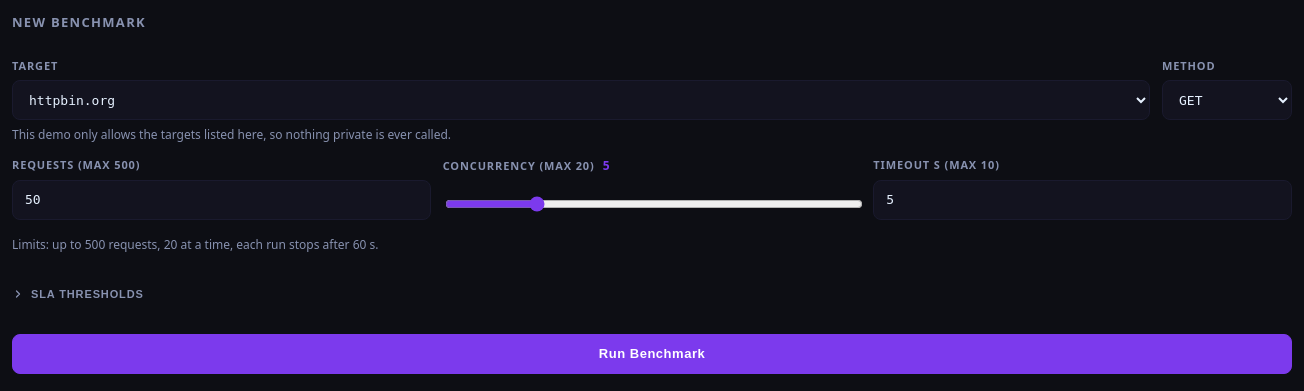
Test case: BenchmarkForm › clamps typed values to the caps
Replace the text in the number field labelled "Requests (max 500)" with "9999": [221, 200] box [12, 180, 431, 220]
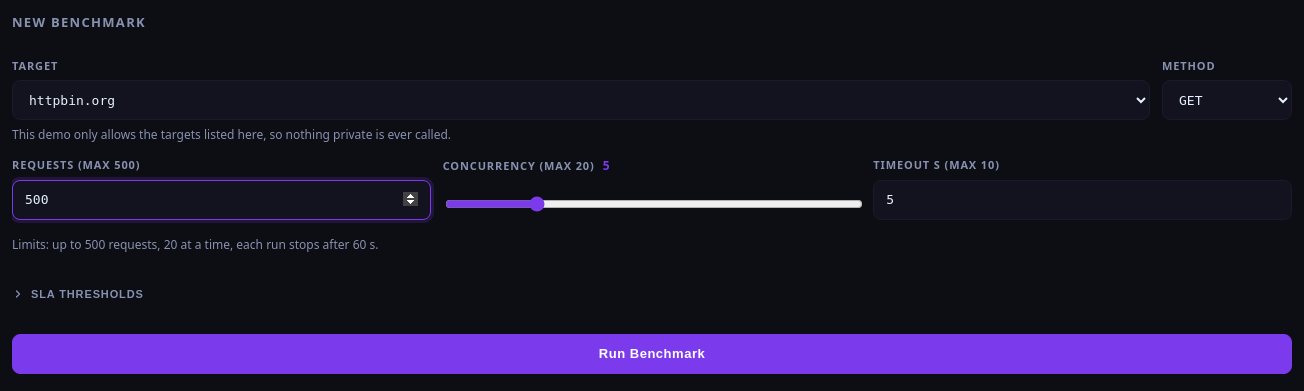
Now the number field labelled "Requests (max 500)" holds "500", box [12, 180, 431, 220]
